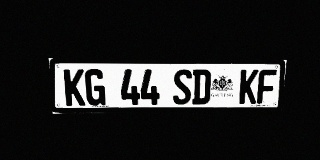4: (120, 69, 140, 105), (141, 69, 160, 105)
D: (192, 69, 211, 104)
F: (257, 69, 277, 104)
G: (85, 69, 106, 106)
K: (64, 69, 85, 106), (239, 69, 259, 104)
S: (173, 69, 192, 105)
